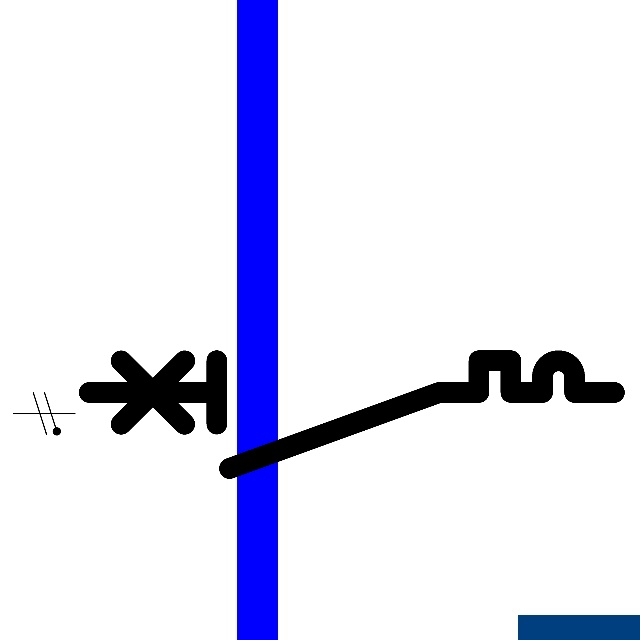interruptor_termomagnetico: (75, 347, 628, 482)
